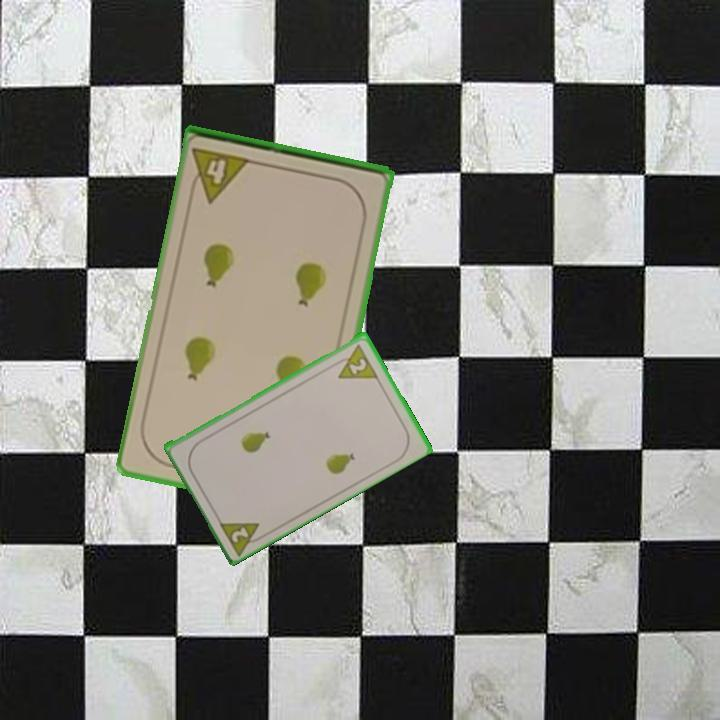2p: (215, 516, 269, 557), (329, 340, 380, 382)
4p: (186, 144, 254, 206)
